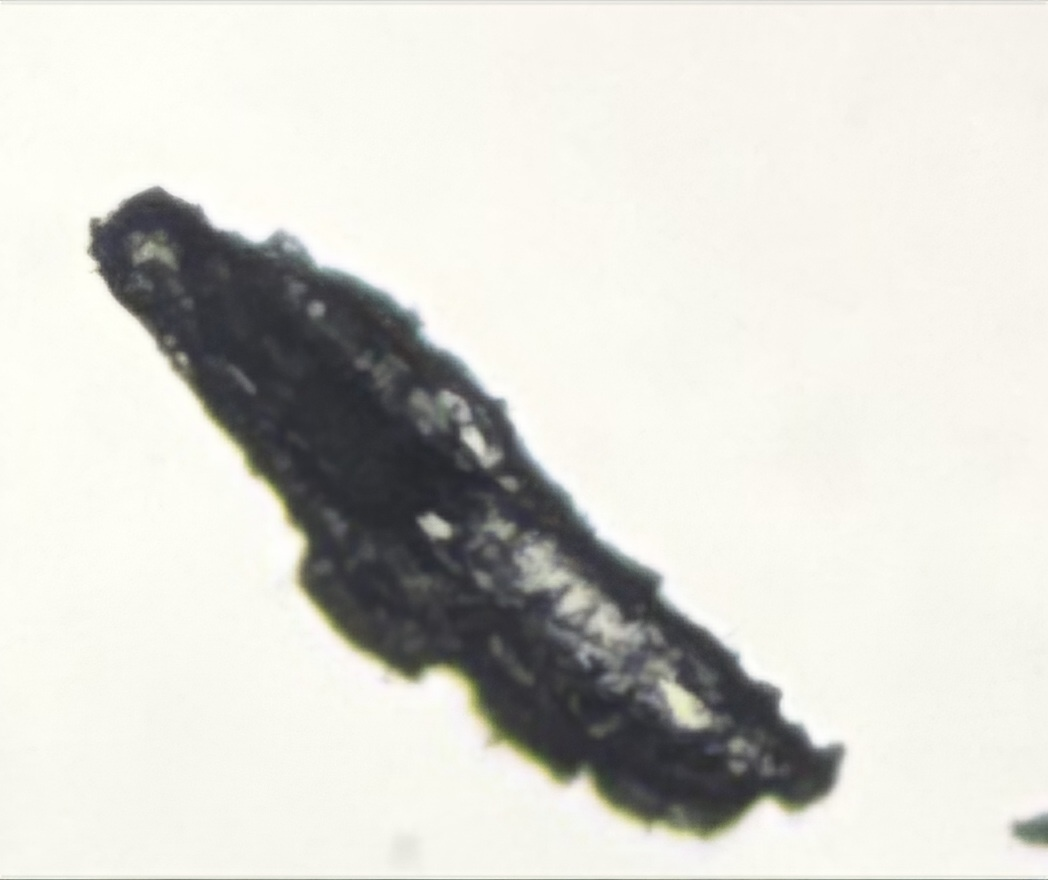microplastic: (87, 185, 844, 839), (1012, 813, 1048, 845)
